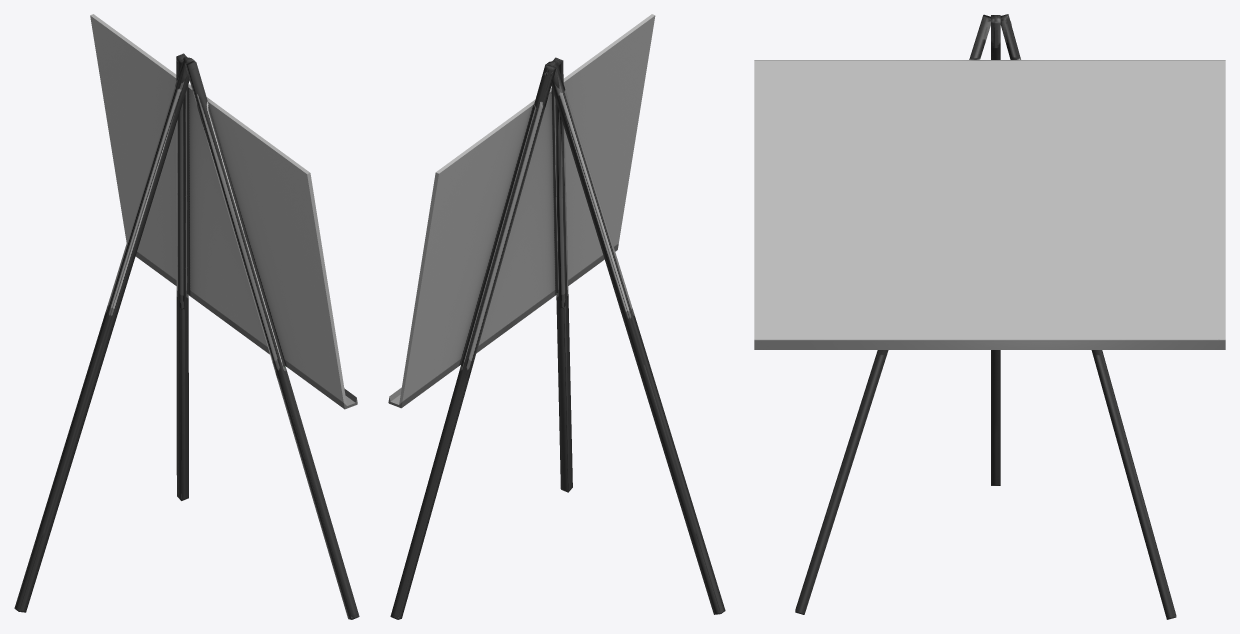
File: Chart bake.obj
3 renders of one model, left to right at view 1: azimuth 30°, elevation 25°; view 2: azimuth 150°, elevation 25°; view 3: azimuth 270°, elevation 25°, orthographic. The views are drawn at different scales.
Visible parts, largest first — view 1: Baked_Plane.001; view 2: Baked_Plane.001; view 3: Baked_Plane.001.
Part boxes in pixels (x1,y1,x2,y2): Baked_Plane.001: [14, 14, 359, 619]; Baked_Plane.001: [388, 14, 725, 619]; Baked_Plane.001: [754, 14, 1225, 619].
Bounding box in the file's own units: 4.94 × 9.75 × 7.39.
1 material, 1 textured.
